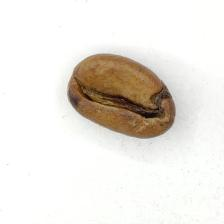NG: (77, 66, 173, 129)
